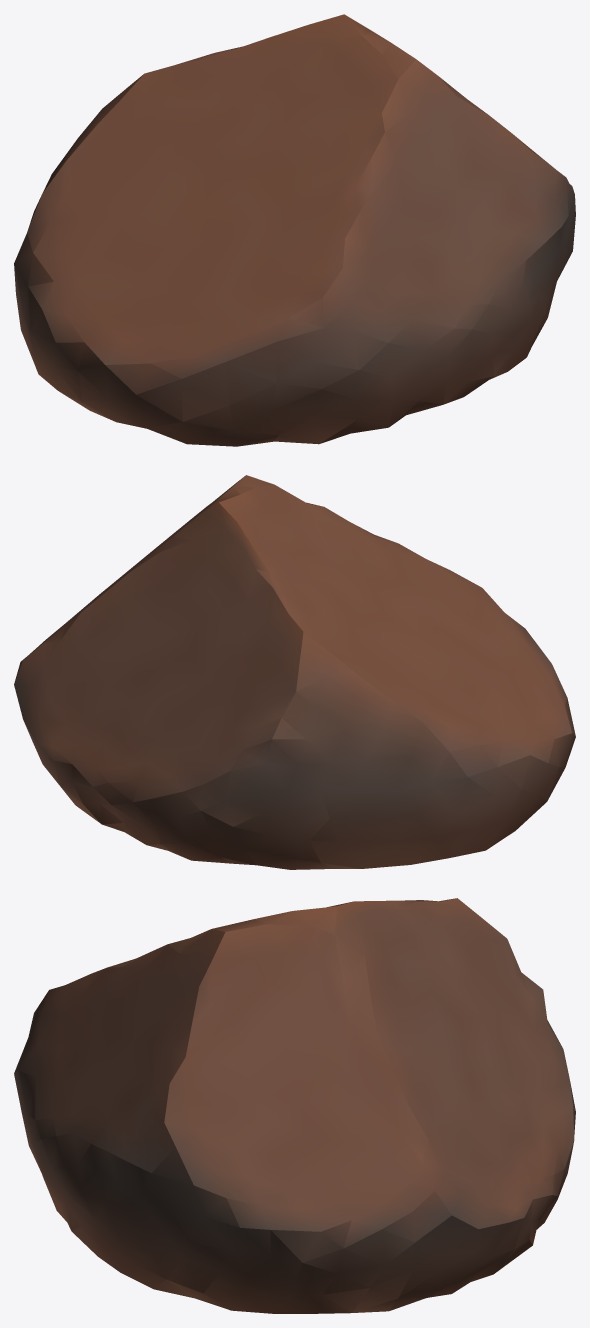
File: rock_large_01.glb
3 renders of one model, top to bottom at view 1: azimuth 30°, elevation 25°; view 2: azimuth 150°, elevation 25°; view 3: azimuth 270°, elevation 25°, orthographic. The views are drawn at different scales.
Visible parts, largest first — view 1: rock; view 2: rock; view 3: rock.
Part boxes in pixels (left/top/right/bottom): rock: left=14, top=14, right=575, bottom=446; rock: left=14, top=475, right=575, bottom=869; rock: left=14, top=898, right=575, bottom=1313.
Size of the model in its own units: 1.9 by 1.05 by 1.63.
